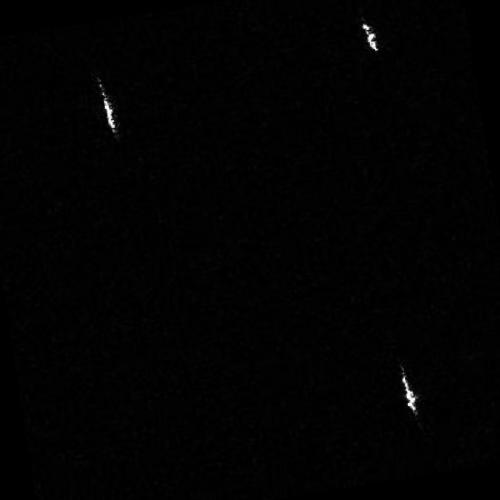ship: (401, 369, 418, 417), (101, 89, 118, 134), (359, 21, 380, 52)
